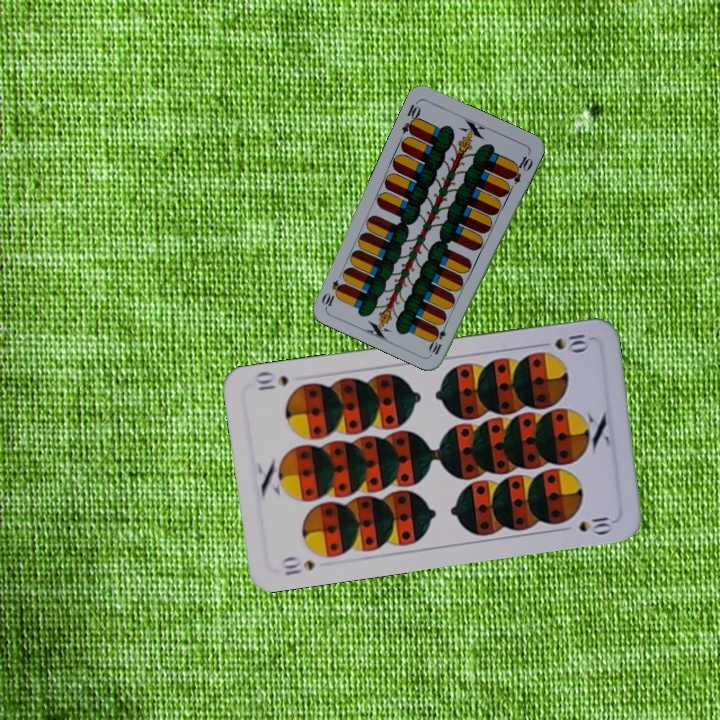E10: (398, 97, 423, 137), (426, 317, 450, 357)
S10: (534, 330, 593, 353), (277, 553, 318, 579)
